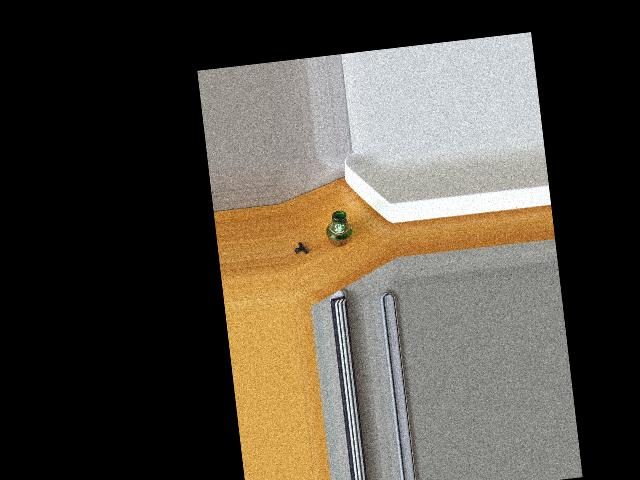beer: (324, 209, 355, 248)
